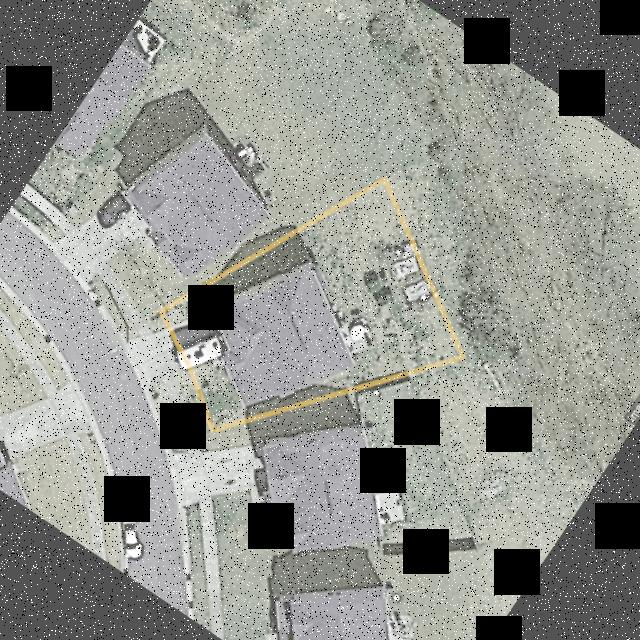Driveway: (172, 311, 228, 367)
Extra Driveway: (121, 329, 182, 386)
Extra Lawn: (169, 369, 208, 437), (146, 378, 184, 444)
Extra Sidewalk: (162, 378, 194, 439), (138, 386, 171, 445)
House: (210, 262, 351, 406)
Other: (341, 316, 372, 353), (391, 256, 418, 280), (403, 280, 430, 302)
